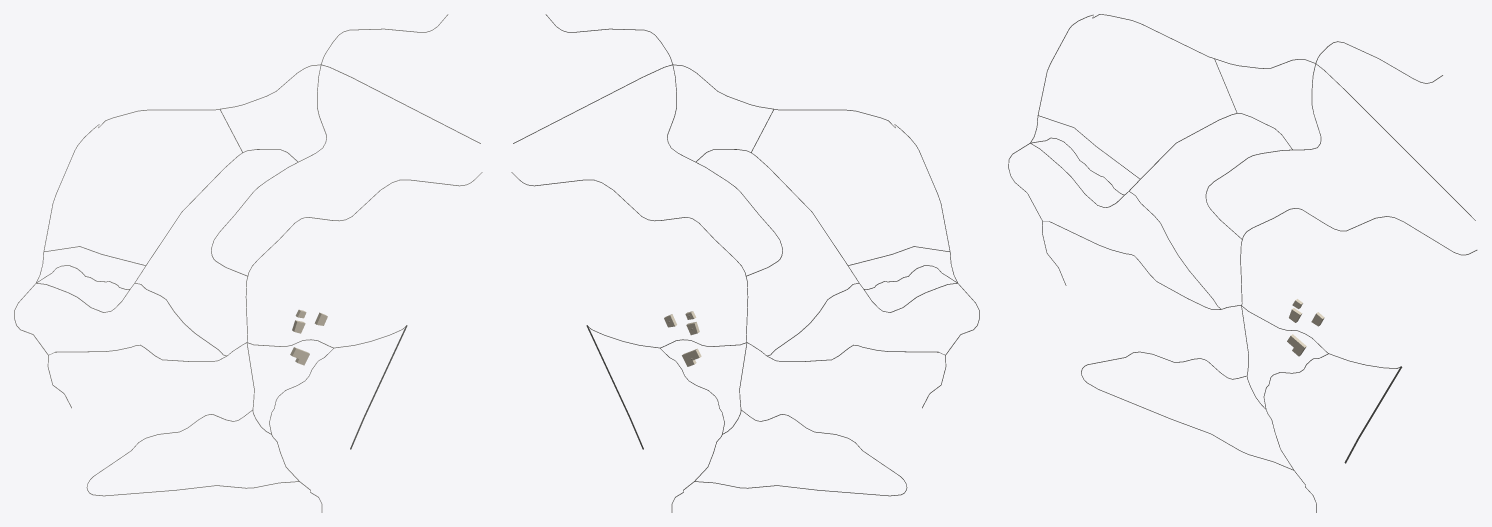
The model's file is historic-palestine-03_20_3445_3142.glb.
3 views of the same model, side by side, from view 1: azimuth 30°, elevation 25°; view 2: azimuth 150°, elevation 25°; view 3: azimuth 330°, elevation 25° (orthographic).
Visible parts, largest first — view 1: Road .001, Road .002, Road .004, Road .003; view 2: Road .001, Road .002, Road .004, Road .003; view 3: Road .001, Road .002, Road .004, Road .003.
Boxes of the visible parts, x1,y1,x2,y2 form: Road .001: (14,64,480,361); Road .002: (245,172,482,434); Road .004: (211,14,448,276); Road .003: (86,409,299,496); Road .001: (513,64,979,361); Road .002: (511,172,748,434); Road .004: (545,14,782,276); Road .003: (695,409,907,496); Road .001: (1008,14,1475,309); Road .002: (1240,208,1477,409); Road .004: (1205,41,1442,239); Road .003: (1081,351,1293,470).
Size of the model in its own units: 954 by 927 by 8.7.
